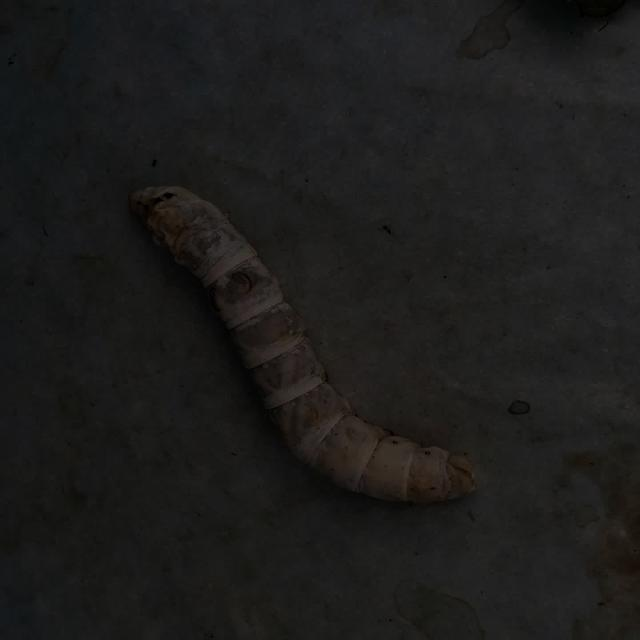Grasserie: (104, 151, 484, 514)
